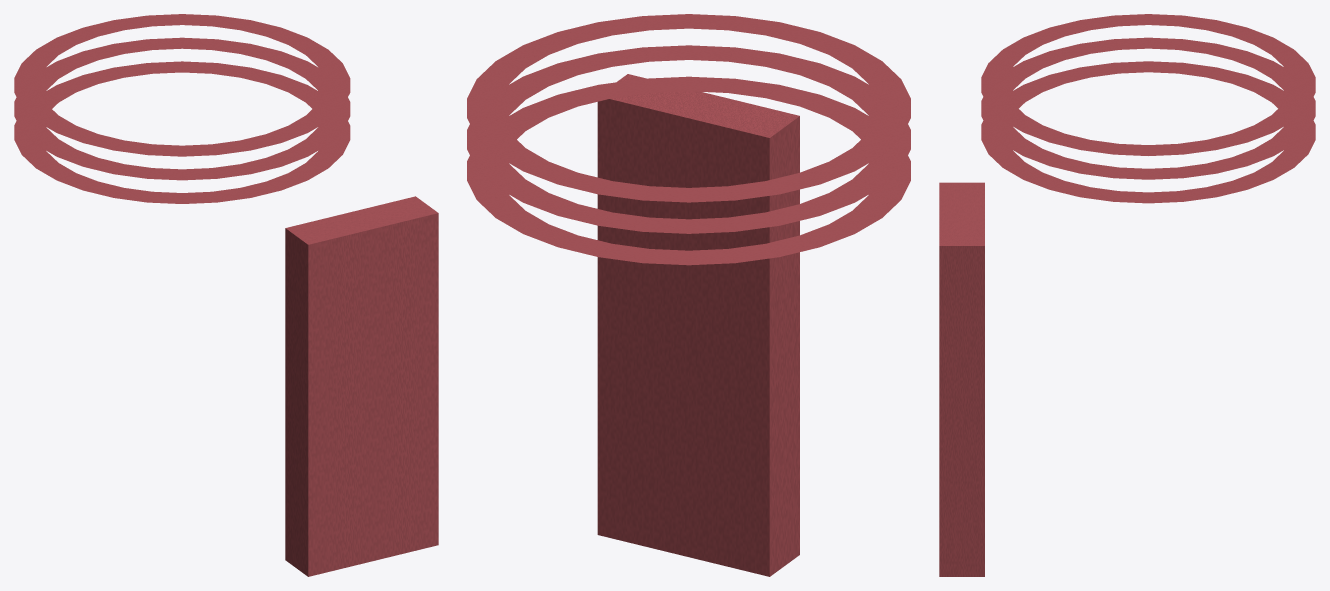
File: reference_scarf.gltf
3 views of the same model, side by side, from view 1: azimuth 30°, elevation 25°; view 2: azimuth 150°, elevation 25°; view 3: azimuth 270°, elevation 25° (orthographic). The views are drawn at different scales.
Parts seen in each view (by area): view 1: Scarf; view 2: Scarf; view 3: Scarf.
Boxes of the visible parts, bbox=[...] form: Scarf: bbox=[14, 14, 438, 576]; Scarf: bbox=[467, 14, 910, 576]; Scarf: bbox=[939, 14, 1315, 576].
Bounding box in the file's own units: 0.2625 × 0.354 × 0.2888.
1 material, 1 textured.
